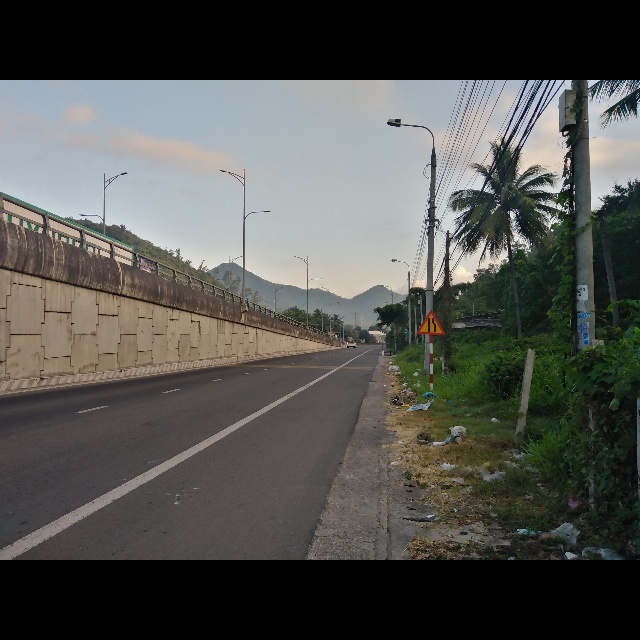Đường bị hẹp bên phải: (417, 308, 447, 335)
